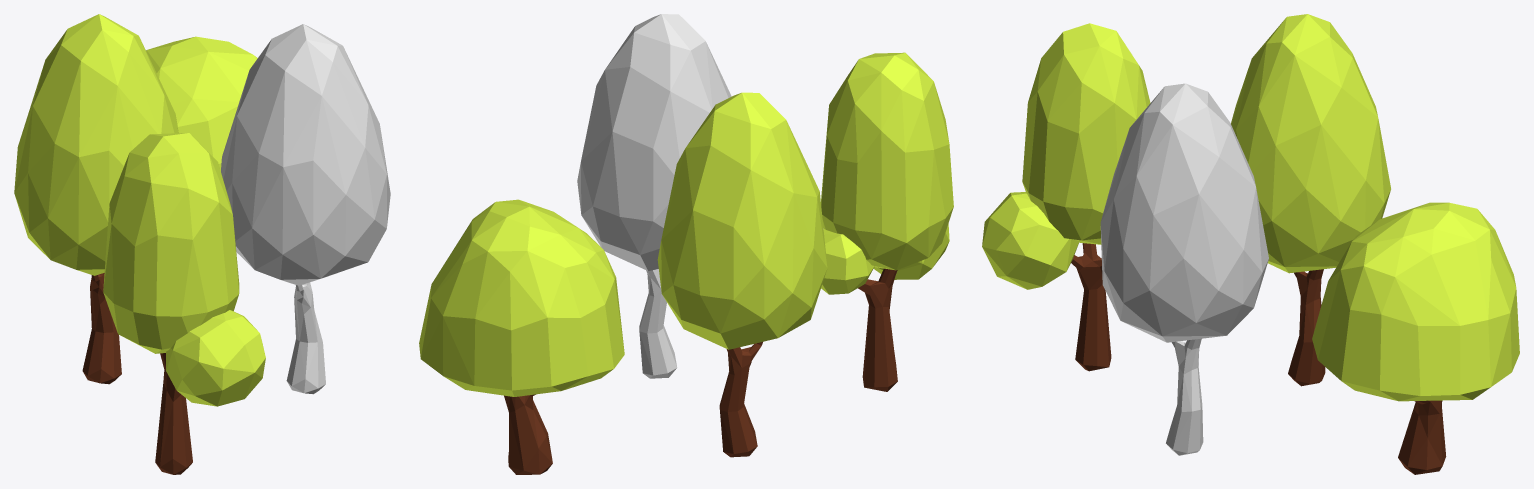
File: Gradient textures - trees download.fbx
3 renders of one model, left to right at view 1: azimuth 30°, elevation 25°; view 2: azimuth 150°, elevation 25°; view 3: azimuth 270°, elevation 25°, orthographic.
Visible parts, largest first — view 1: Cube.015, Cube.001, Cube.019, Cube.021, Cube.002; view 2: Cube.019, Cube.021, Cube.015, Cube.001, Cube.002; view 3: Cube.021, Cube.001, Cube.019, Cube.015, Cube.002.
Part boxes in pixels (x1,y1,x2,y2): Cube.015: [103, 133, 265, 474]; Cube.001: [221, 24, 390, 285]; Cube.019: [14, 14, 178, 384]; Cube.021: [146, 36, 257, 171]; Cube.002: [286, 282, 325, 394]; Cube.019: [657, 92, 827, 457]; Cube.021: [419, 199, 624, 474]; Cube.015: [821, 52, 953, 391]; Cube.001: [577, 14, 731, 271]; Cube.002: [639, 269, 677, 378]; Cube.021: [1312, 202, 1519, 474]; Cube.001: [1100, 83, 1268, 342]; Cube.019: [1231, 14, 1390, 386]; Cube.015: [982, 23, 1150, 371]; Cube.002: [1166, 338, 1203, 455].
Size of what is drawn, in the model's own units: 1167 by 882 by 909.
